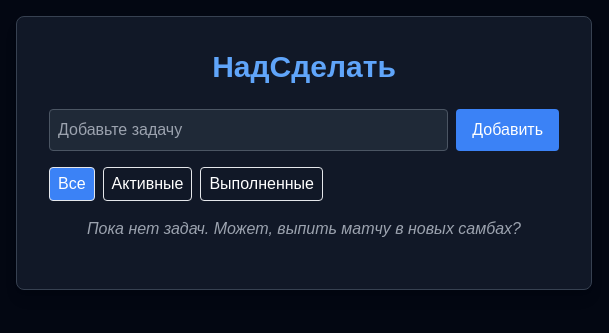
Test: ToDo App › Добавление задачи через Enter
The width and height of the screenshot is (609, 333).
Type "Задача через Enter" into the field with placeholder "Добавьте задачу" at point(249, 130), box left=49, top=109, right=448, bottom=151
Then press Enter
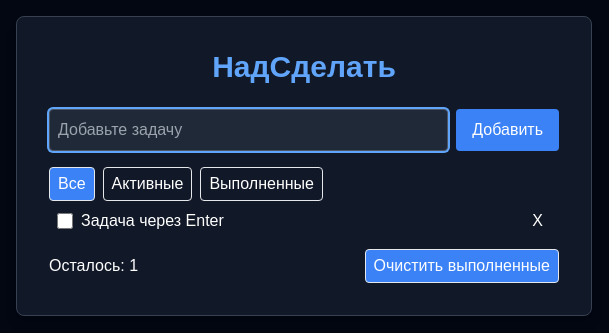
Check: the text "Задача через Enter" is shown, box left=81, top=209, right=224, bottom=233
